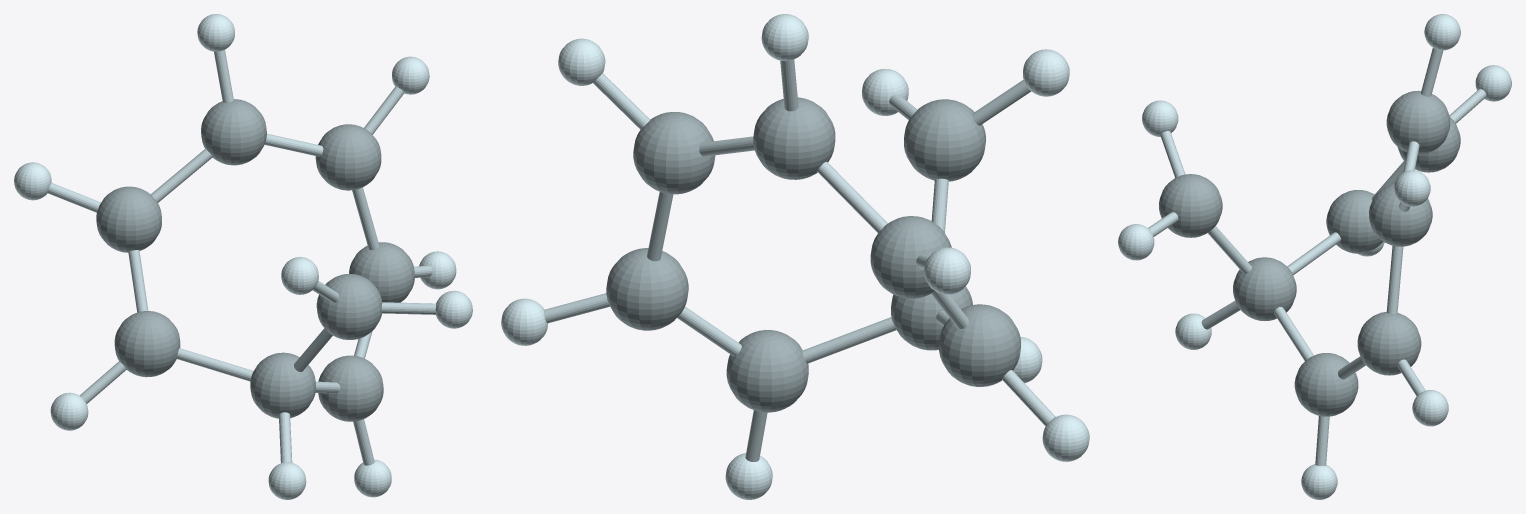
File: irc_step_246.glb
3 renders of one model, left to right at view 1: azimuth 30°, elevation 25°; view 2: azimuth 150°, elevation 25°; view 3: azimuth 270°, elevation 25°, orthographic. The views are drawn at different scales.
Parts seen in each view (by area): view 1: Renderer Node; view 2: Renderer Node; view 3: Renderer Node.
Boxes of the visible parts, box(x1,y1,x2,y2) form: Renderer Node: box(14, 14, 472, 499); Renderer Node: box(501, 14, 1089, 499); Renderer Node: box(1118, 14, 1511, 499).
Size of the model in its own units: 5.28 by 5.3 by 4.31.
